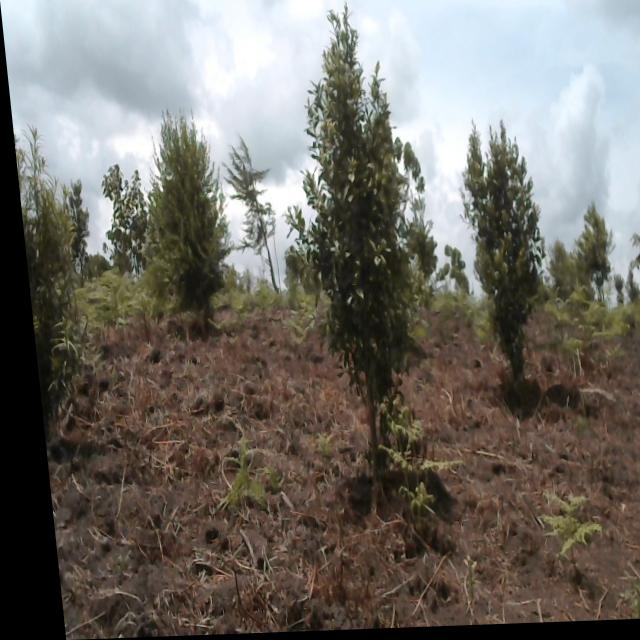Podocarpus falcatus: (11, 119, 93, 460)
Salix alba: (123, 113, 240, 336)
cedrus: (216, 131, 286, 321), (560, 189, 626, 322)
other: (271, 9, 456, 478), (449, 119, 552, 384)
